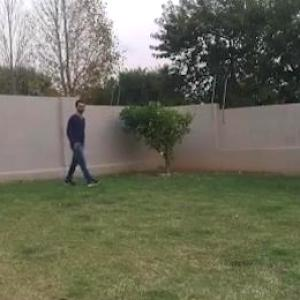follow: (66, 99, 89, 193)
